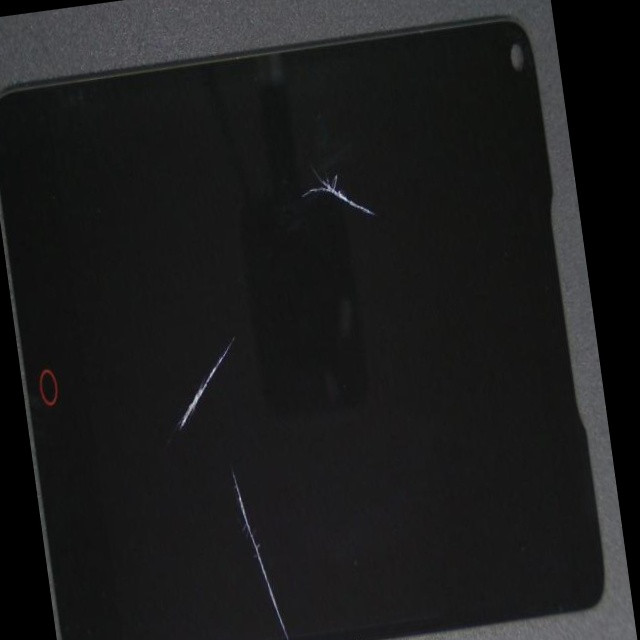scratch: (206, 111, 574, 343), (137, 112, 331, 539), (168, 391, 405, 640)
